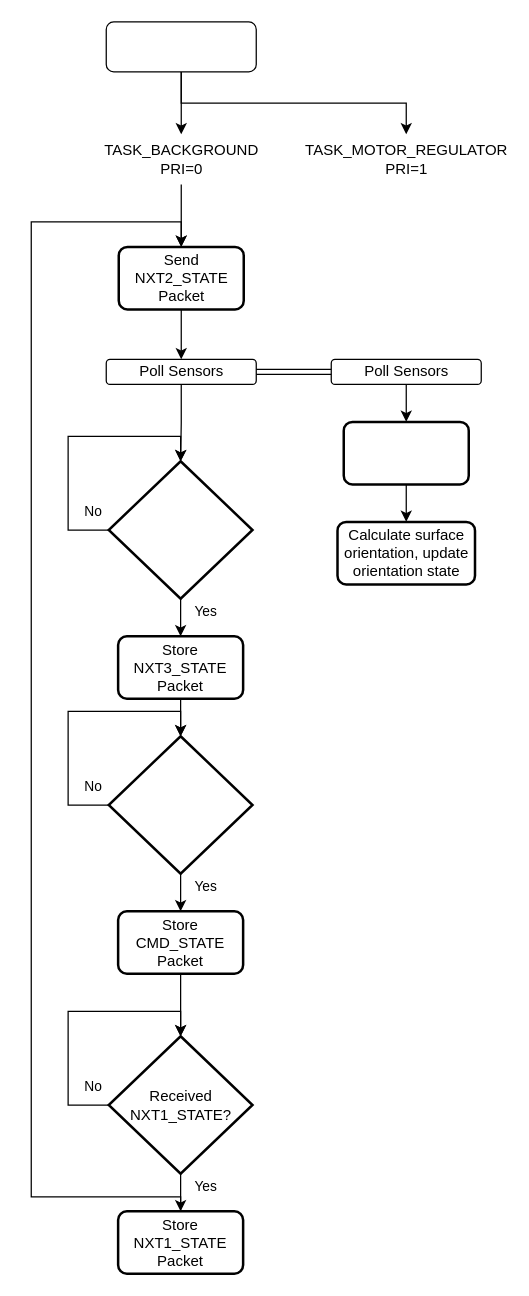
Image size: 529x1296. Some labels were removed from this diagram. The centre of each missing label's shape, as x and y in pixels:
NXT2 Start: pixel 180 46
Poll EOPD 1-3: pixel 405 452
Received CMD_STATE?: pixel 180 804
Received NXT3_STATE?: pixel 180 529
